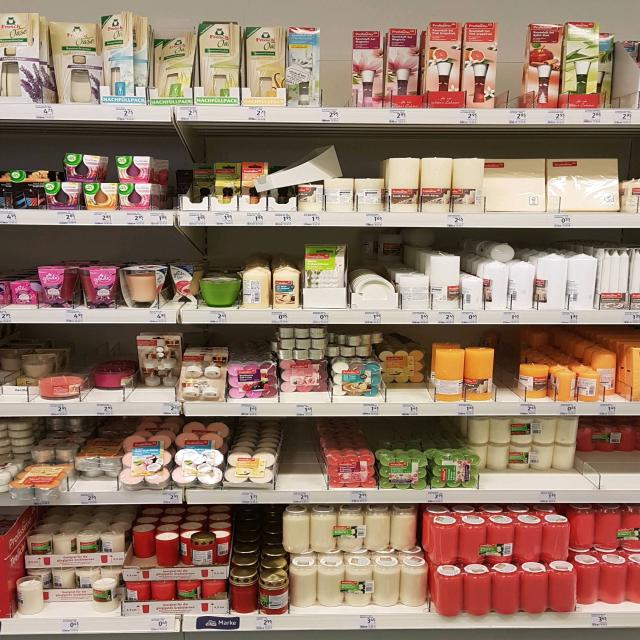unorganised: (473, 419, 584, 488), (351, 30, 422, 107), (252, 145, 339, 191), (155, 30, 197, 97), (137, 337, 182, 389), (578, 423, 638, 459), (567, 253, 598, 310), (63, 151, 115, 182), (598, 24, 617, 108), (435, 347, 464, 402), (239, 265, 271, 308), (228, 569, 259, 613), (379, 353, 422, 384), (189, 531, 221, 572), (509, 262, 535, 312), (15, 578, 46, 618), (595, 354, 621, 399), (401, 273, 430, 308), (192, 164, 214, 202), (95, 369, 132, 389), (463, 276, 483, 309), (556, 374, 579, 401), (578, 375, 598, 401)
